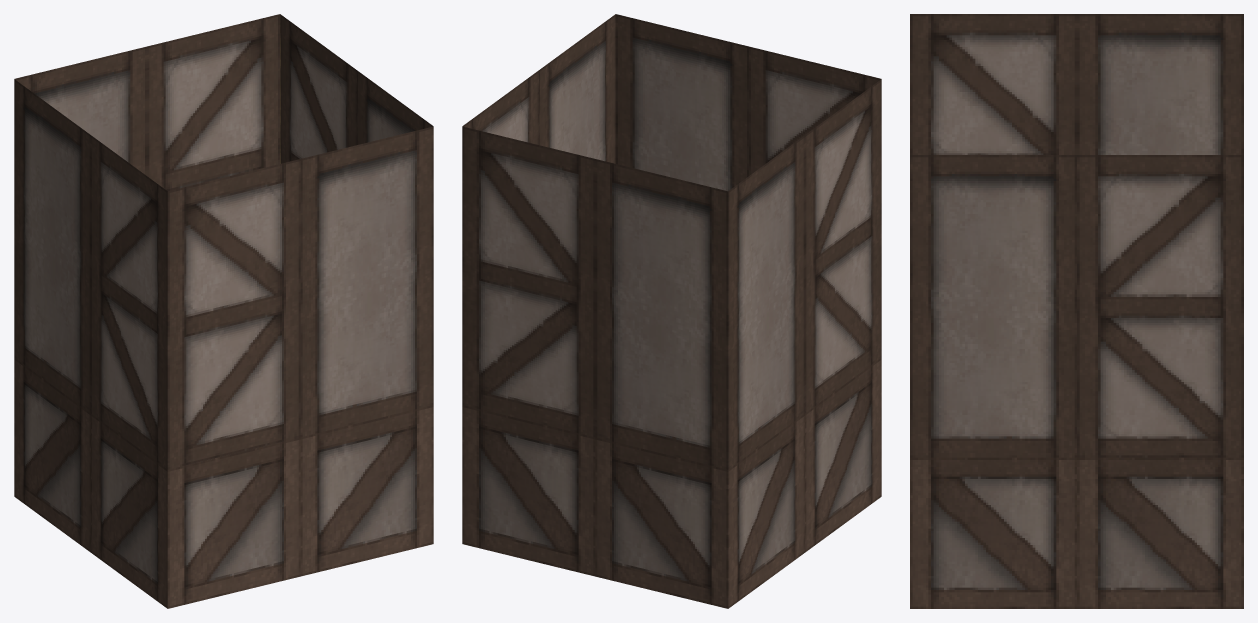
Rendered from plaster_wall_half_alt.glb.
3 views of the same model, side by side, from view 1: azimuth 30°, elevation 25°; view 2: azimuth 150°, elevation 25°; view 3: azimuth 270°, elevation 25° (orthographic). The views are drawn at different scales.
Visible parts, largest first — view 1: plaster_wall_half_alt; view 2: plaster_wall_half_alt; view 3: plaster_wall_half_alt.
Part boxes in pixels (<box>): plaster_wall_half_alt: <box>14,14,433,608</box>; plaster_wall_half_alt: <box>462,14,881,608</box>; plaster_wall_half_alt: <box>910,14,1243,608</box>.
Size of the model in its own units: 2 by 3 by 2.
Materials: 1 (1 with a texture image).
